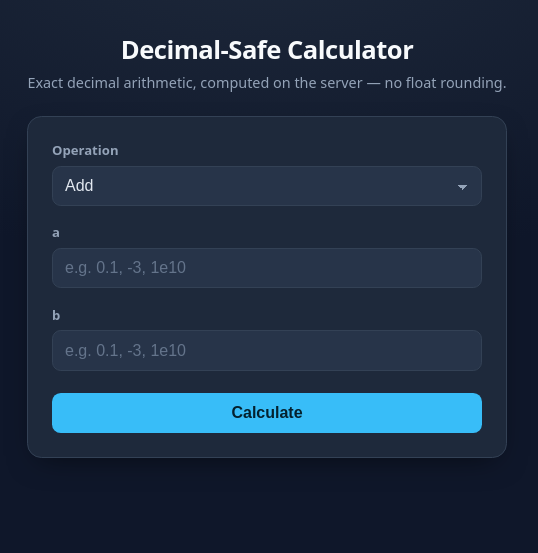
<App /> › shows a friendly divide-by-zero message, never the raw code
This screenshot has width=538, height=553.
Select "Divide" in the dropdown labelled "Operation". click: (267, 186)
box: [52,166,482,206]
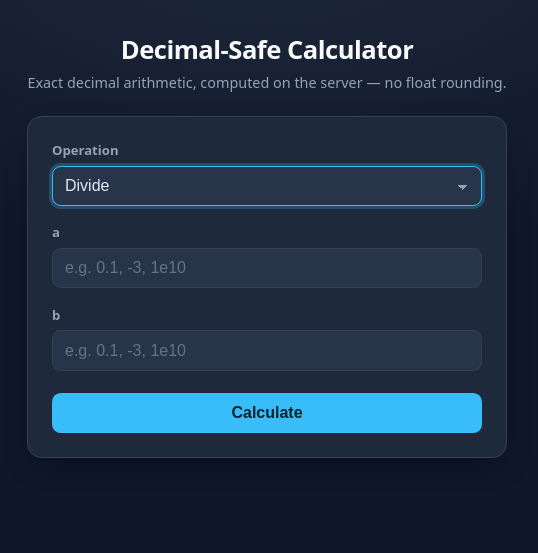
Type "1" into the field labelled "a". click: (267, 268)
box: [52,248,482,288]
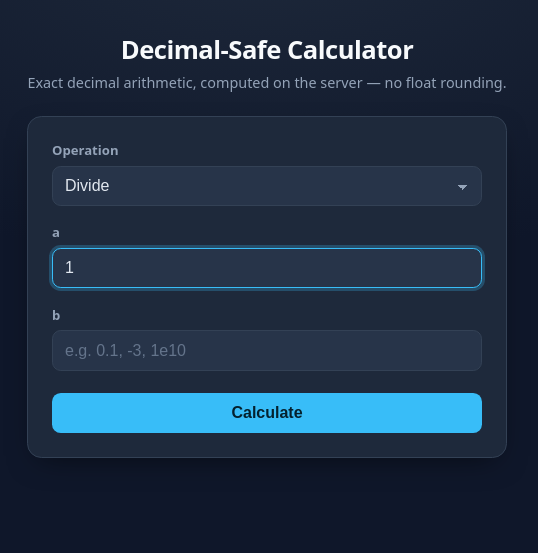
Type "0" into the field labelled "b". click: (267, 351)
box: [52,330,482,371]
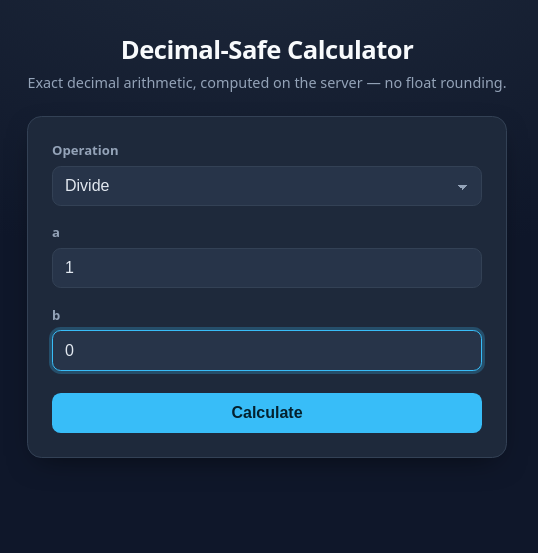
Click the button "Calculate". click: (267, 413)
box: [52,393,482,433]
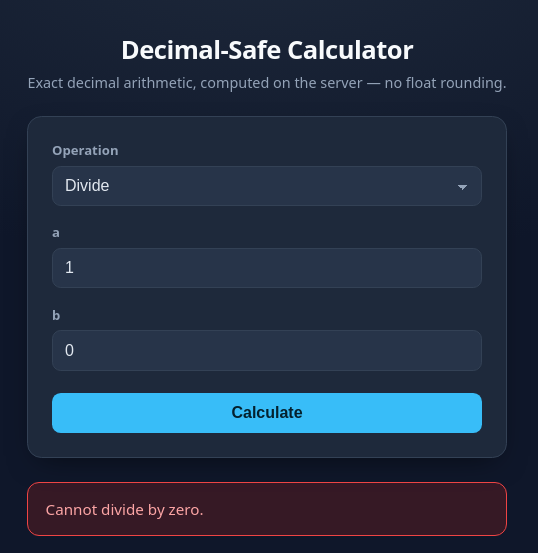
Expected: the message does not show "DIVIDE_BY_ZERO", [27,482,507,536]
Now the message reads "Cannot divide by zero.", box [46,499,204,519]
